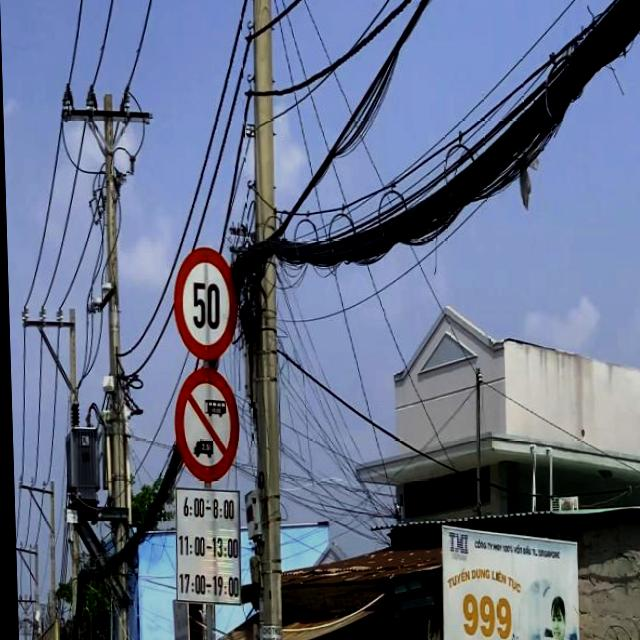Toc do toi da cho phep: (171, 247, 238, 361)
